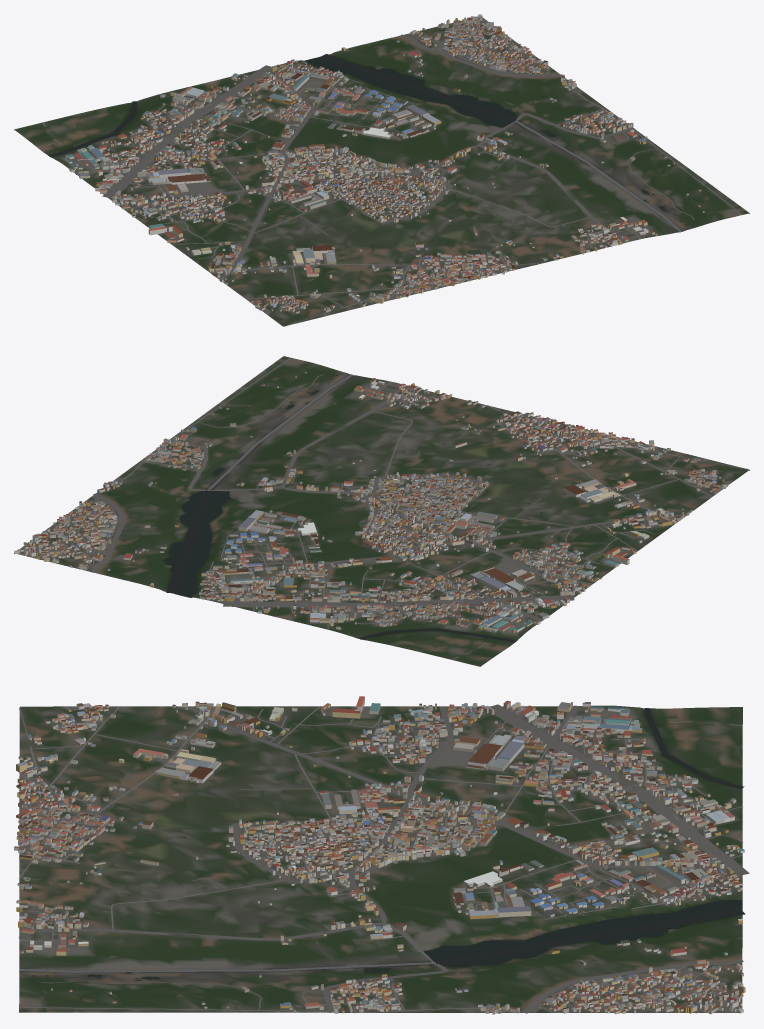
3 views of the same model, one above another, from view 1: azimuth 30°, elevation 25°; view 2: azimuth 150°, elevation 25°; view 3: azimuth 270°, elevation 25° (orthographic). The views are drawn at different scales.
Parts seen in each view (by area): view 1: ground, buildings, roads, water; view 2: ground, buildings, roads, water; view 3: ground, buildings, roads, water.
Boxes of the visible parts, box(x1,y1,x2,y2) form: ground: box(14, 17, 749, 326); buildings: box(65, 14, 704, 313); roads: box(42, 18, 742, 325); water: box(48, 54, 687, 231); ground: box(14, 356, 749, 666); buildings: box(14, 371, 728, 633); roads: box(19, 357, 747, 659); water: box(163, 374, 516, 642); ground: box(19, 705, 742, 1012); buildings: box(14, 696, 745, 1014); roads: box(19, 704, 749, 1013); water: box(19, 708, 745, 980).
Size of the model in its own units: 1428 by 23.99 by 1426.
